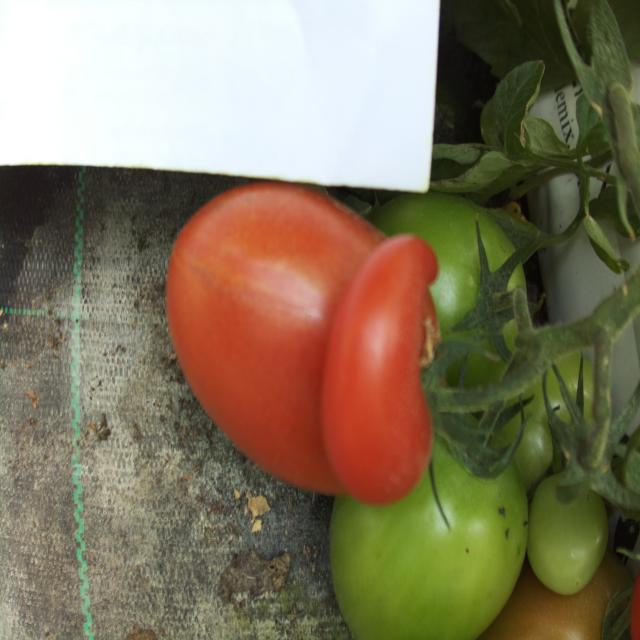kirmizi: (166, 160, 442, 505)
